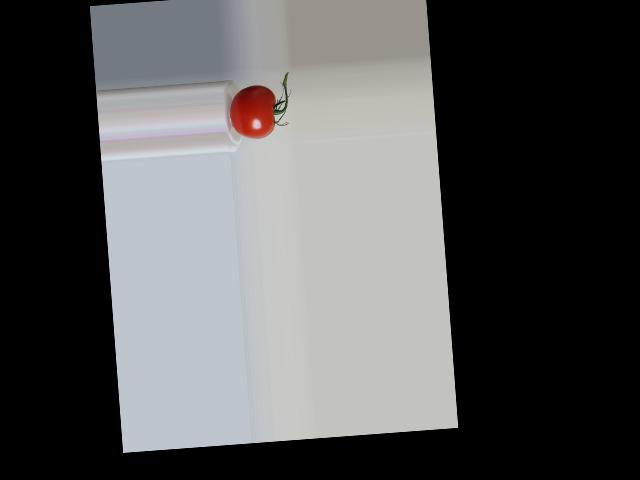tomato: (228, 83, 278, 140)
